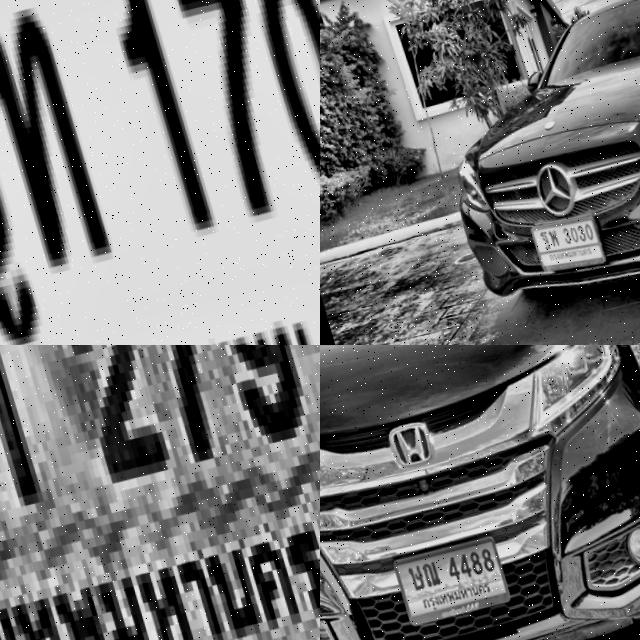license-plate: (0, 0, 320, 345), (0, 345, 320, 640), (380, 533, 508, 632), (520, 210, 599, 279)
